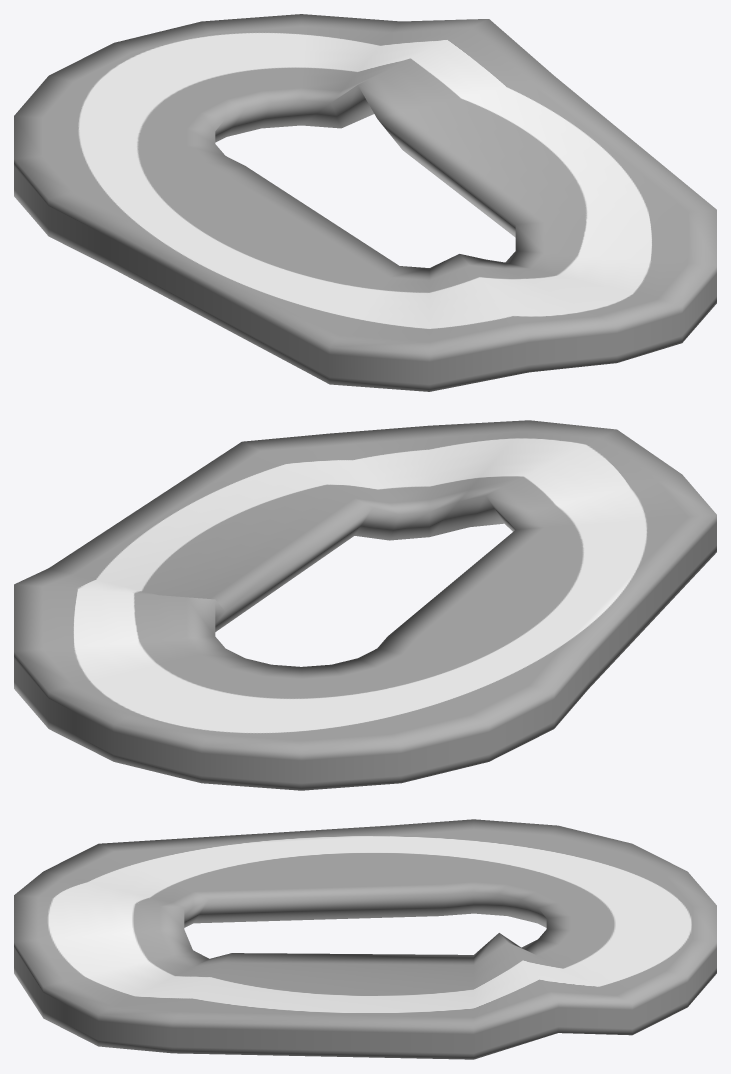
File: CircleCource.FBX
3 renders of one model, top to bottom at view 1: azimuth 30°, elevation 25°; view 2: azimuth 150°, elevation 25°; view 3: azimuth 270°, elevation 25°, orthographic. The views are drawn at different scales.
Visible parts, largest first — view 1: Cylinder00; view 2: Cylinder00; view 3: Cylinder00.
Boxes of the visible parts, box(x1,y1,x2,y2) form: Cylinder00: box(14, 14, 716, 391); Cylinder00: box(14, 420, 716, 790); Cylinder00: box(14, 819, 716, 1059).
Size of the model in its own units: 1028 by 145 by 1464.
Materials: 1 (1 with a texture image).
